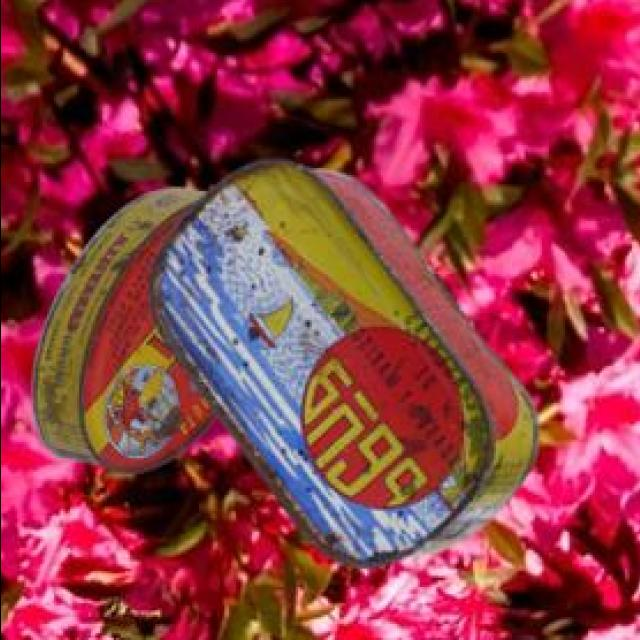logam: (153, 165, 542, 572), (36, 195, 220, 478)
